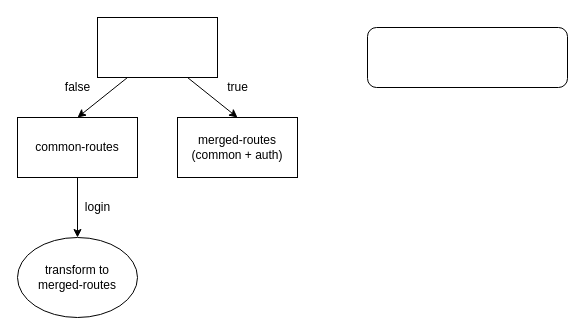
Some shapes in this 585 by 335 pixel diagram are drawn without their labels. The box of each missing label's shape, as (x1, y1, x2, y2) in pixels:
generateRoutes(routes): (366, 26, 568, 88)
isLogged: (96, 16, 218, 78)
